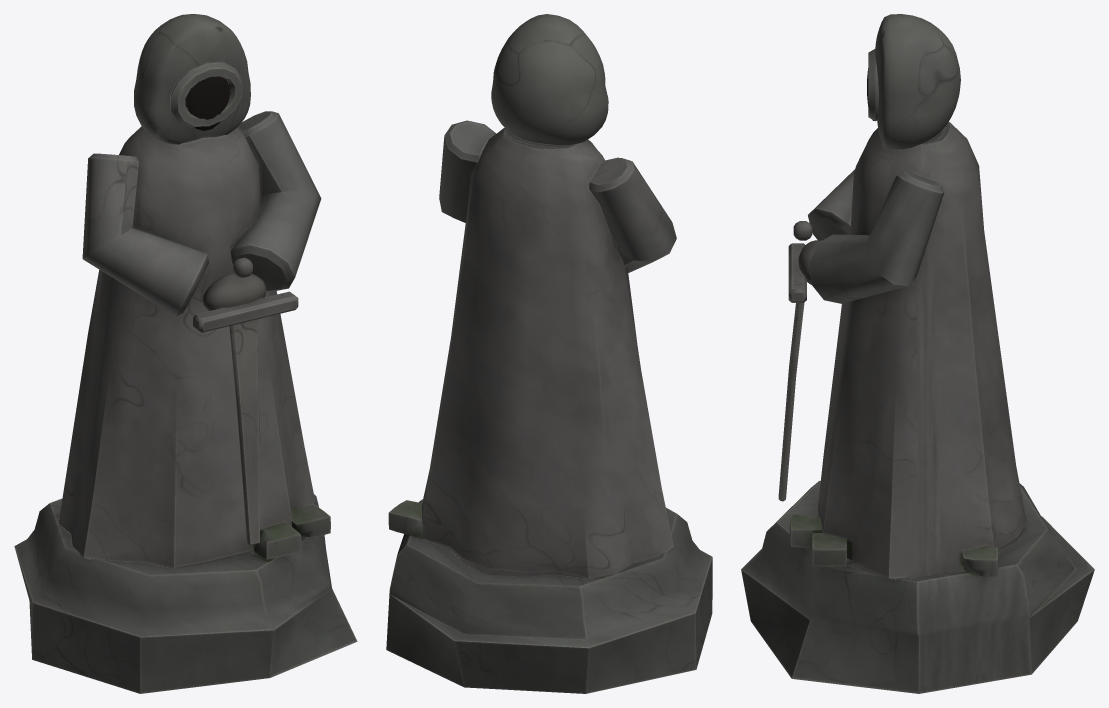
File: statue.glb
The picture shows the model from 3 angles, left to right: view 1: azimuth 30°, elevation 25°; view 2: azimuth 150°, elevation 25°; view 3: azimuth 270°, elevation 25°; orthographic projection.
Visible parts, largest first — view 1: statue; view 2: statue; view 3: statue.
Boxes of the visible parts, x1,y1,x2,y2 form: statue: (14,14,357,693); statue: (386,14,712,693); statue: (741,14,1094,693).
Size of the model in its own units: 0.6513 by 1.29 by 0.6818.
Materials: 1 (1 with a texture image).
